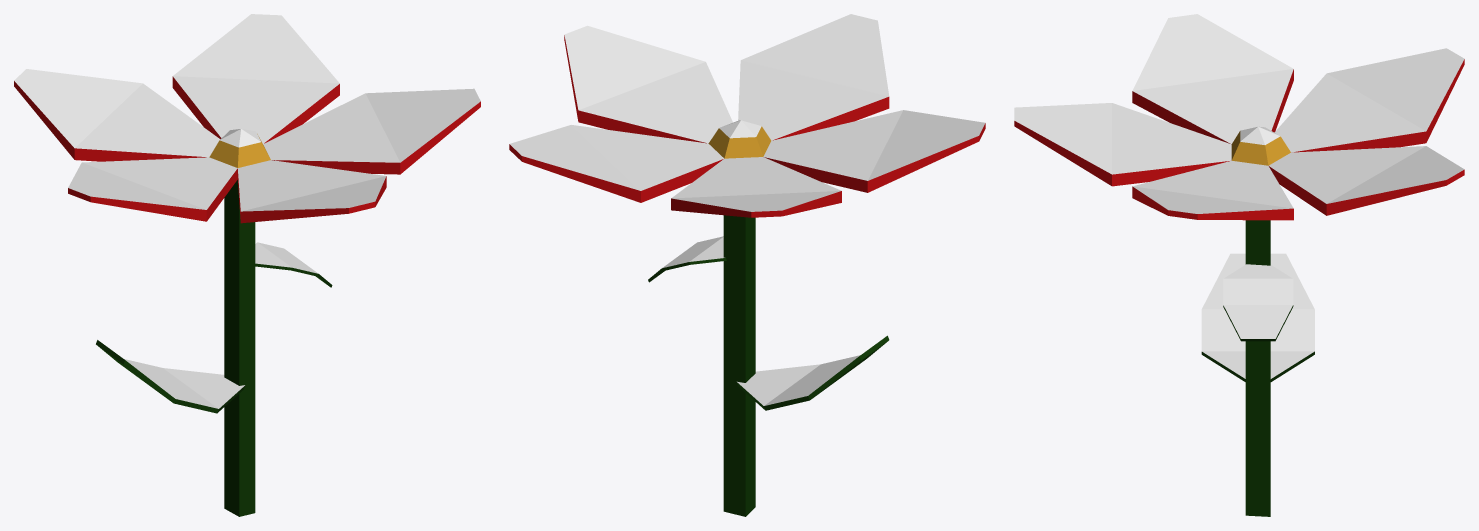
File: Flower_1_Snow.fbx
3 renders of one model, left to right at view 1: azimuth 30°, elevation 25°; view 2: azimuth 150°, elevation 25°; view 3: azimuth 270°, elevation 25°, orthographic. The views are drawn at different scales.
Parts seen in each view (by area): view 1: Flower_1_Snow; view 2: Flower_1_Snow; view 3: Flower_1_Snow.
Boxes of the visible parts, box(x1,y1,x2,y2) form: Flower_1_Snow: box(14, 14, 480, 516); Flower_1_Snow: box(509, 14, 985, 516); Flower_1_Snow: box(1014, 14, 1464, 516).
Bounding box in the file's own units: 71.2 × 65.95 × 67.71.
